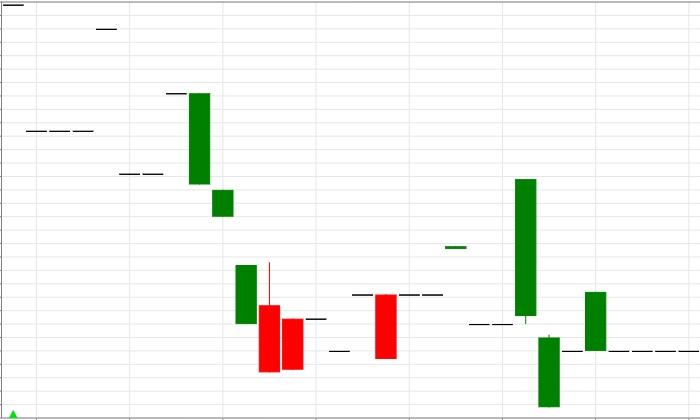three_black_crows_fall: (118, 91, 257, 324)
